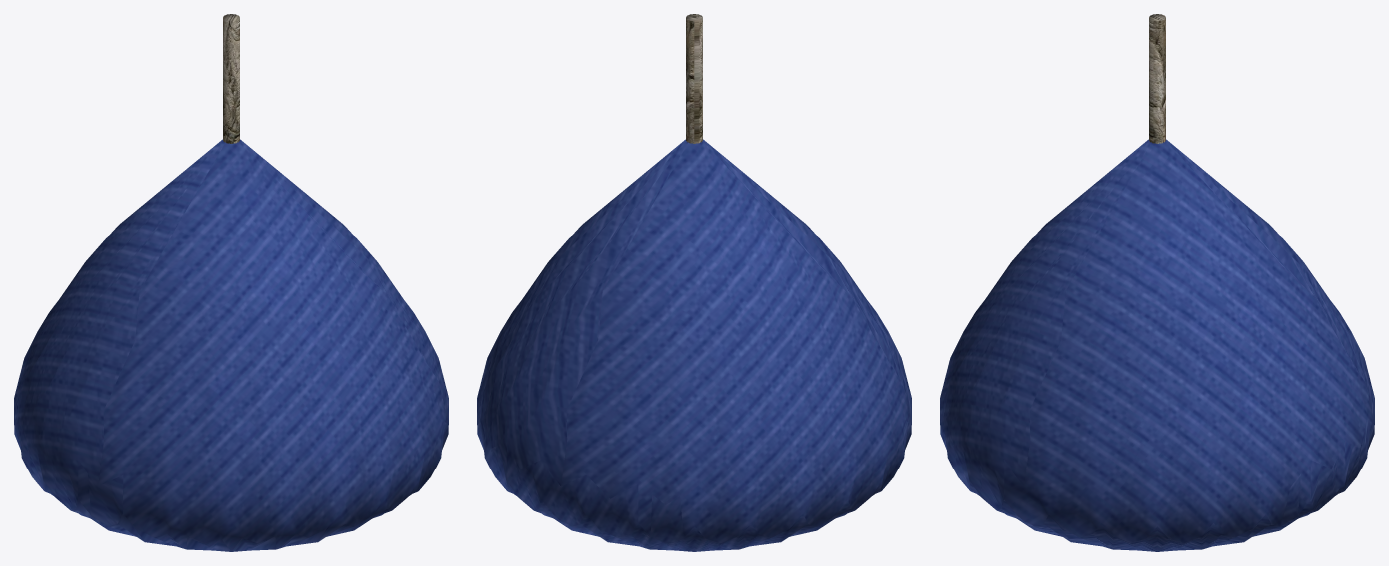
File: tent_detailedClosed.glb
The picture shows the model from 3 angles, left to right: view 1: azimuth 30°, elevation 25°; view 2: azimuth 150°, elevation 25°; view 3: azimuth 270°, elevation 25°; orthographic projection.
Visible parts, largest first — view 1: Cone, Cylinder; view 2: Cone, Cylinder; view 3: Cone, Cylinder.
Part boxes in pixels (left/top/right/bottom): Cone: left=14, top=139, right=448, bottom=551; Cylinder: left=223, top=14, right=239, bottom=143; Cone: left=477, top=139, right=911, bottom=551; Cylinder: left=686, top=14, right=702, bottom=143; Cone: left=940, top=139, right=1374, bottom=551; Cylinder: left=1149, top=14, right=1165, bottom=143.
Bounding box in the file's own units: 2.02 × 2.6 × 2.02.
2 materials, 2 textured.
